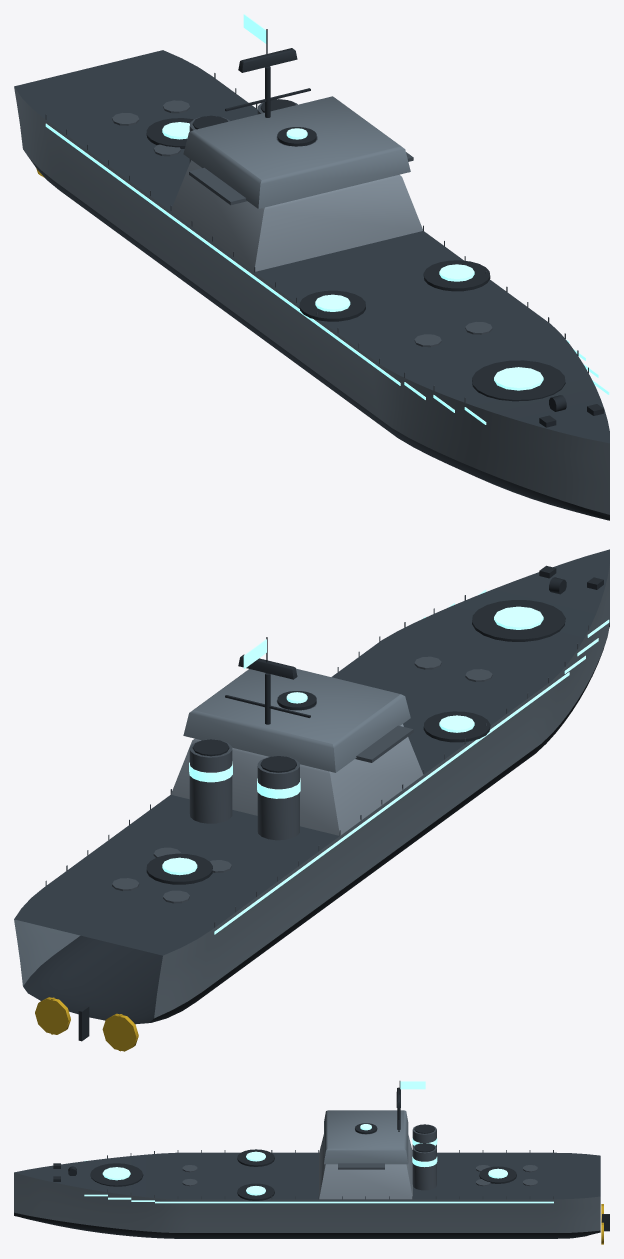
Rendered from arena_hull_medium.glb.
3 renders of one model, top to bottom at view 1: azimuth 30°, elevation 25°; view 2: azimuth 150°, elevation 25°; view 3: azimuth 270°, elevation 25°, orthographic. The views are drawn at different scales.
Visible parts, largest first — view 1: deck, hull, bridge_top, bridge, hull_under, slot_ring_0, team_stripe, hatches, slot_ring_2, slot_ring_3, slot_pad_0, bridge_wing (+2 smaller); view 2: deck, hull, bridge_top, hull_under, bridge, funnel_2, funnel_1, slot_ring_0, team_stripe, hatches, slot_ring_3, slot_ring_1 (+5 smaller); view 3: hull, deck, bridge_top, hull_under, bridge, team_stripe, funnel_2, slot_ring_0, hatches, slot_ring_3, slot_ring_2, slot_ring_1 (+3 smaller).
Part boxes in pixels (<box>): deck: <box>14,50,609,443</box>; hull: <box>14,87,609,514</box>; bridge_top: <box>183,96,410,208</box>; bridge: <box>171,160,422,271</box>; hull_under: <box>26,154,609,520</box>; slot_ring_0: <box>472,360,565,401</box>; team_stripe: <box>45,123,609,424</box>; hatches: <box>112,100,492,347</box>; slot_ring_2: <box>423,260,490,291</box>; slot_ring_3: <box>299,290,365,321</box>; slot_pad_0: <box>494,367,543,390</box>; bridge_wing: <box>189,152,413,205</box>; deck: <box>14,549,609,955</box>; hull: <box>14,564,609,1018</box>; bridge_top: <box>183,668,410,772</box>; hull_under: <box>23,622,609,1024</box>; bridge: <box>171,724,423,835</box>; funnel_2: <box>189,739,232,823</box>; funnel_1: <box>257,756,299,840</box>; slot_ring_0: <box>472,600,565,641</box>; team_stripe: <box>214,589,609,934</box>; hatches: <box>112,656,492,903</box>; slot_ring_3: <box>423,711,490,742</box>; slot_ring_1: <box>146,853,212,884</box>; hull: <box>14,1172,600,1232</box>; deck: <box>14,1152,600,1199</box>; bridge_top: <box>324,1110,408,1164</box>; hull_under: <box>14,1212,600,1238</box>; bridge: <box>319,1134,412,1199</box>; team_stripe: <box>84,1160,553,1203</box>; funnel_2: <box>412,1144,436,1190</box>; slot_ring_0: <box>90,1163,143,1186</box>; hatches: <box>182,1165,537,1186</box>; slot_ring_3: <box>237,1149,274,1166</box>; slot_ring_2: <box>237,1183,274,1200</box>; slot_ring_1: <box>479,1166,516,1183</box>.
Size of the model in its own units: 32.4 by 46.2 by 162.
